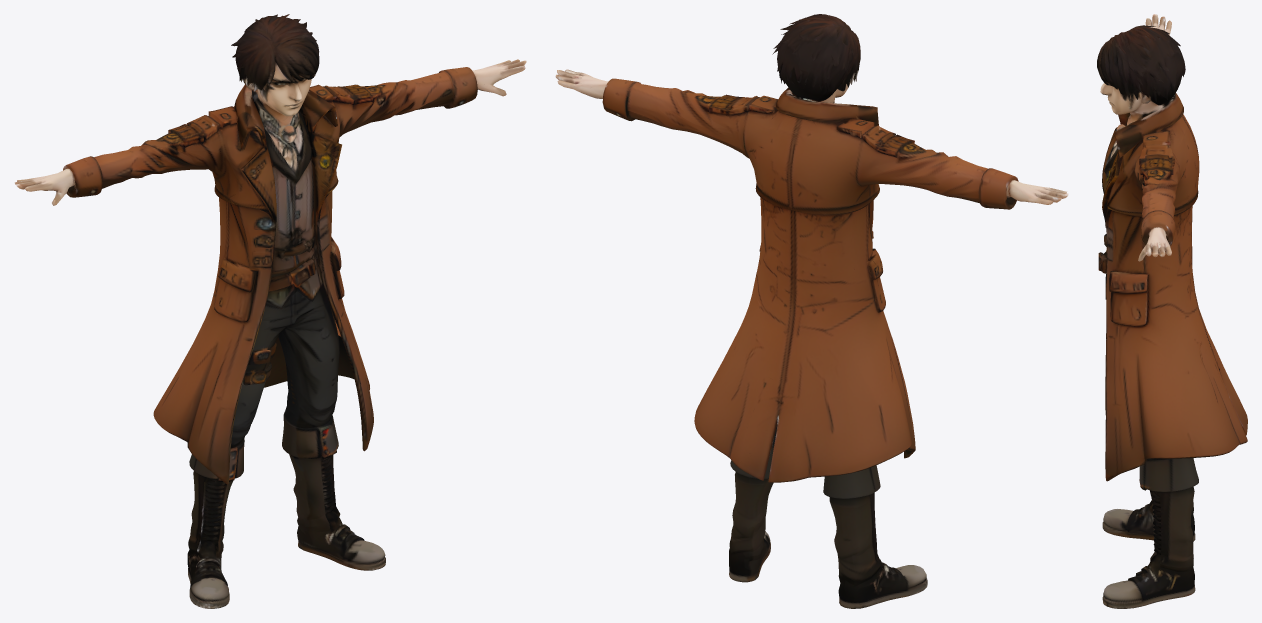
File: base_basic_shaded.fbx
3 views of the same model, side by side, from view 1: azimuth 30°, elevation 25°; view 2: azimuth 150°, elevation 25°; view 3: azimuth 270°, elevation 25° (orthographic). The views are drawn at different scales.
Parts seen in each view (by area): view 1: model; view 2: model; view 3: model.
Boxes of the visible parts, x1=… form: model: x1=14, y1=14, x2=526, y2=608; model: x1=555, y1=14, x2=1068, y2=608; model: x1=1097, y1=14, x2=1247, y2=608.
Size of the model in its own units: 169 by 176 by 45.01.
